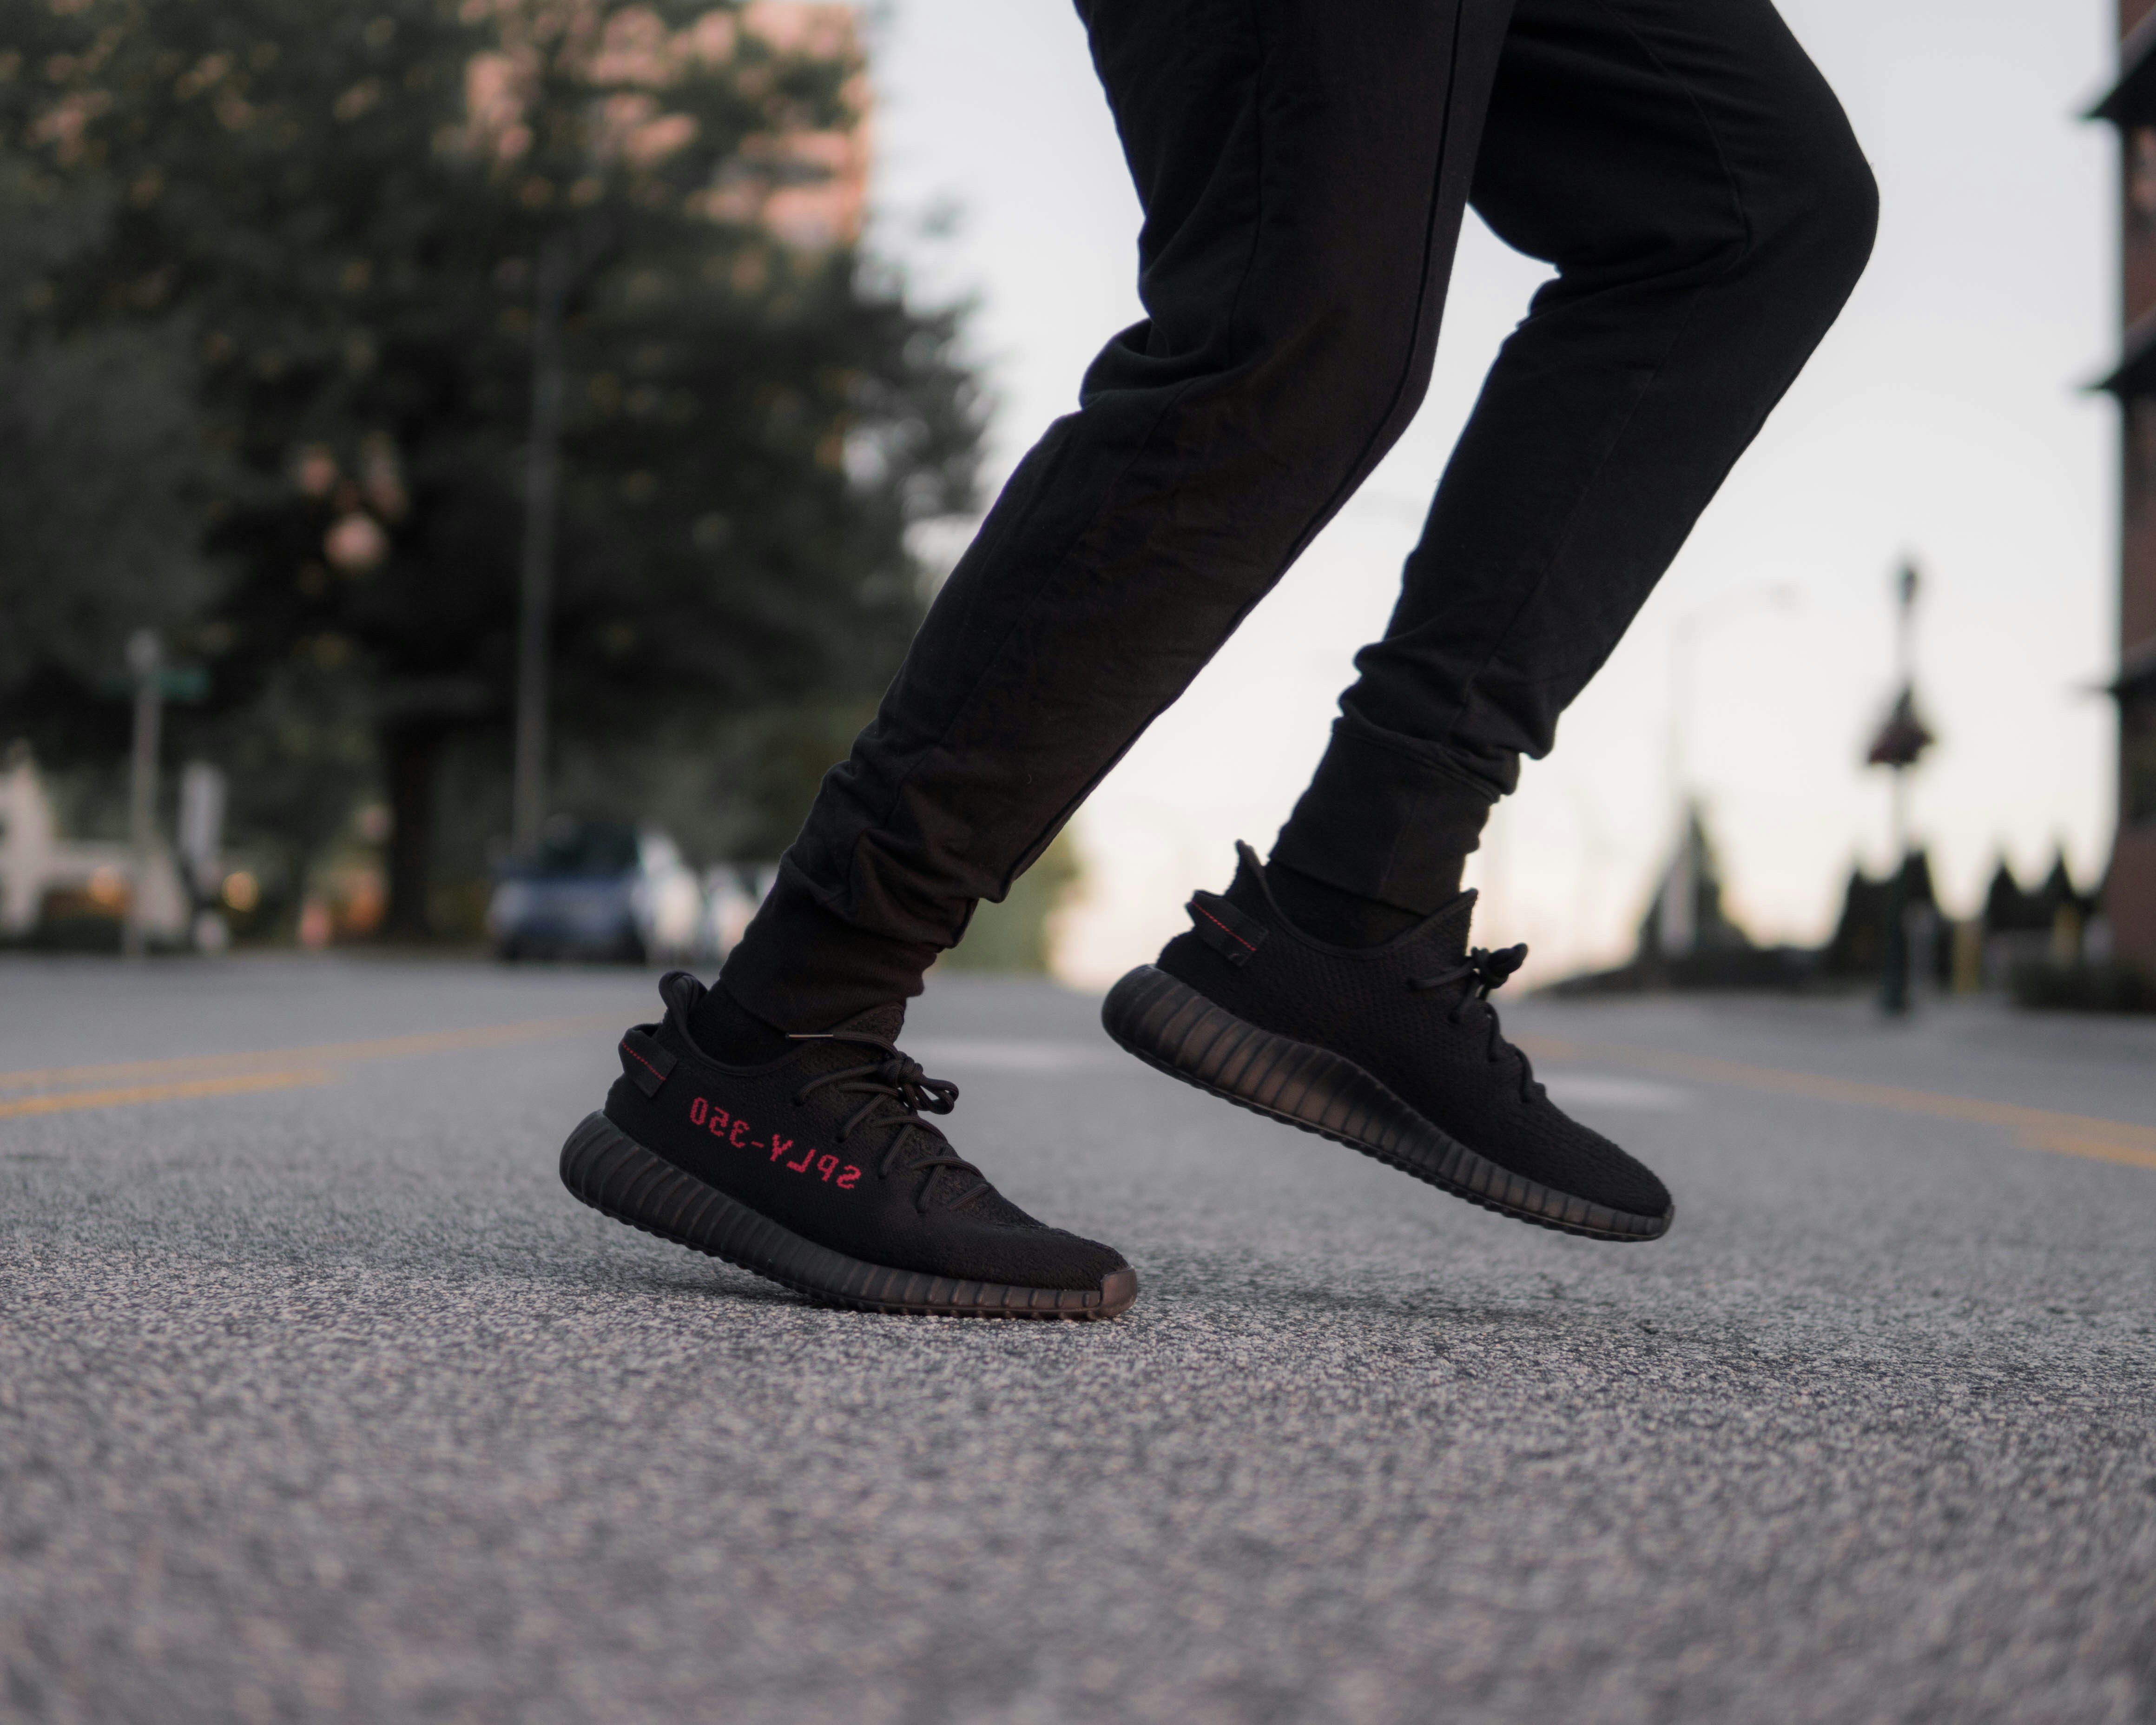Footwear: (1102, 834, 1695, 1250), (530, 961, 1148, 1343)
